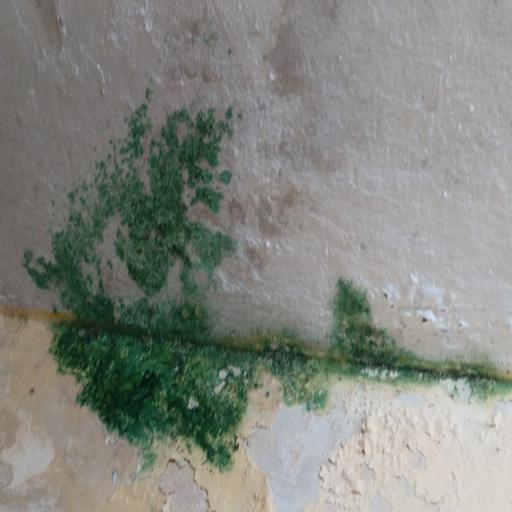algae: (18, 81, 500, 450)
